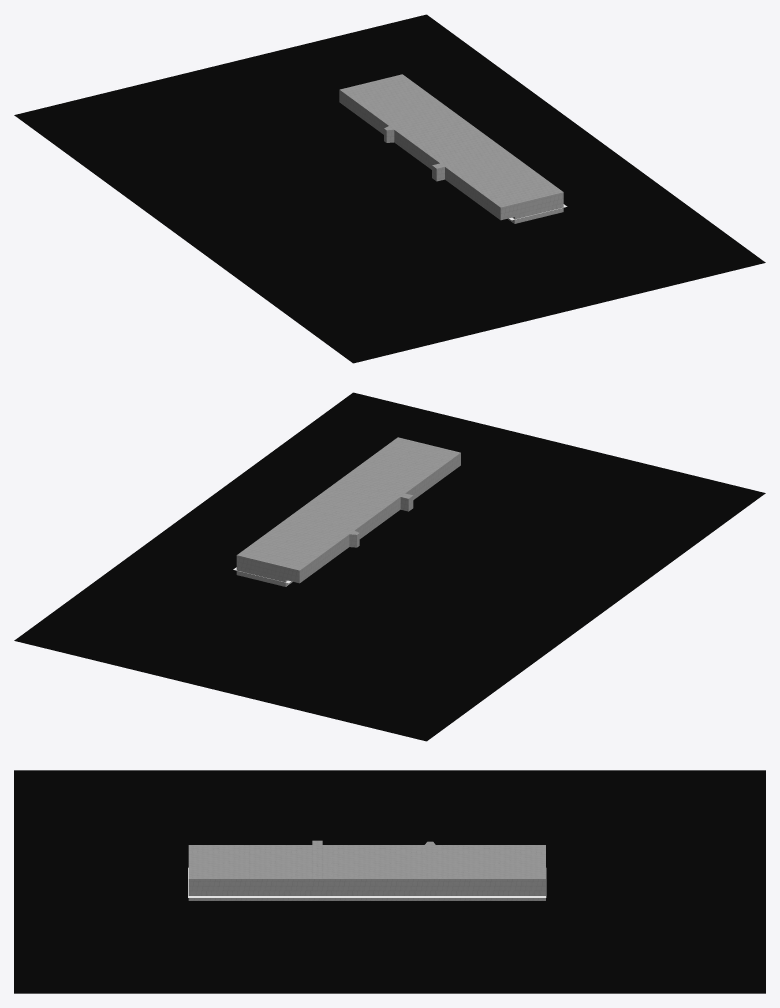
File: 06_Base_SceneV2_Sub_01_Map.fbx
3 renders of one model, top to bottom at view 1: azimuth 30°, elevation 25°; view 2: azimuth 150°, elevation 25°; view 3: azimuth 270°, elevation 25°, orthographic. The views are drawn at different scales.
Visible parts, largest first — view 1: DarkBackground, Mat_Tile_FloorCement01; view 2: DarkBackground, Mat_Tile_FloorCement01; view 3: DarkBackground, Mat_Tile_FloorCement01, Water Base.
Part boxes in pixels (box(x1,y1,x2,y2)): DarkBackground: box(14, 14, 765, 363); Mat_Tile_FloorCement01: box(339, 74, 563, 223); DarkBackground: box(14, 392, 765, 741); Mat_Tile_FloorCement01: box(236, 437, 460, 586); DarkBackground: box(14, 770, 765, 993); Mat_Tile_FloorCement01: box(188, 840, 545, 900); Water Base: box(188, 867, 546, 897).
Size of the model in its own units: 101 by 10.1 by 144.
3 materials, 3 textured.
